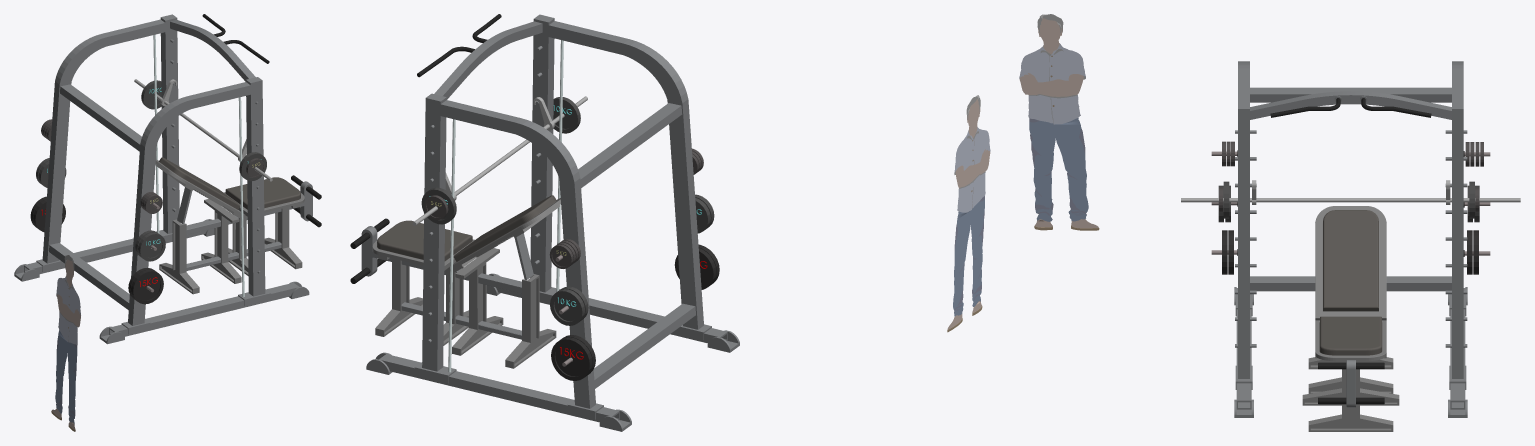
The model's file is smith-machine.glb.
The picture shows the model from 3 angles, left to right: view 1: azimuth 30°, elevation 25°; view 2: azimuth 150°, elevation 25°; view 3: azimuth 270°, elevation 25°; orthographic projection. The views are drawn at different scales.
Parts seen in each view (by area): view 1: Object_286, Object_149, Object_150, Object_15, Object_82, Object_288, Object_53, Object_289, Object_139, Object_133, Object_296, Object_294; view 2: Object_286, Object_149, Object_150, Object_15, Object_82, Object_288, Object_289, Object_53, Object_139, Object_294, Object_133, Object_296; view 3: Object_286, Object_150, Object_149, Object_288, Object_289, Object_294, Object_133, Object_296, Object_82, Object_139, Object_15, Object_292.
Boxes of the visible parts, left/top/right/bottom form: Object_286: left=14, top=14, right=312, bottom=344; Object_149: left=155, top=159, right=304, bottom=294; Object_150: left=159, top=157, right=300, bottom=209; Object_15: left=36, top=80, right=266, bottom=261; Object_82: left=30, top=196, right=163, bottom=304; Object_288: left=55, top=330, right=77, bottom=424; Object_53: left=153, top=34, right=244, bottom=297; Object_289: left=56, top=276, right=80, bottom=345; Object_139: left=41, top=119, right=264, bottom=213; Object_133: left=134, top=79, right=272, bottom=181; Object_296: left=202, top=14, right=321, bottom=227; Object_294: left=51, top=259, right=80, bottom=429; Object_286: left=361, top=14, right=739, bottom=431; Object_149: left=372, top=198, right=560, bottom=368; Object_150: left=377, top=195, right=556, bottom=261; Object_15: left=421, top=97, right=714, bottom=325; Object_82: left=551, top=244, right=719, bottom=380; Object_288: left=953, top=199, right=984, bottom=316; Object_289: left=954, top=127, right=990, bottom=212; Object_53: left=448, top=40, right=563, bottom=372; Object_139: left=424, top=148, right=703, bottom=268; Object_294: left=947, top=99, right=990, bottom=329; Object_133: left=412, top=96, right=587, bottom=225; Object_296: left=350, top=14, right=501, bottom=283; Object_286: left=1234, top=61, right=1467, bottom=417; Object_150: left=1319, top=210, right=1382, bottom=355; Object_149: left=1302, top=206, right=1399, bottom=431; Object_288: left=1029, top=118, right=1088, bottom=221; Object_289: left=1019, top=43, right=1085, bottom=124; Object_294: left=1019, top=18, right=1098, bottom=228; Object_133: left=1181, top=180, right=1520, bottom=204; Object_296: left=1270, top=98, right=1431, bottom=404; Object_82: left=1222, top=150, right=1478, bottom=274; Object_139: left=1219, top=141, right=1483, bottom=212; Object_15: left=1218, top=181, right=1479, bottom=222; Object_292: left=1029, top=118, right=1086, bottom=215.
Bounding box in the file's own units: 3931 × 2470 × 3762.
